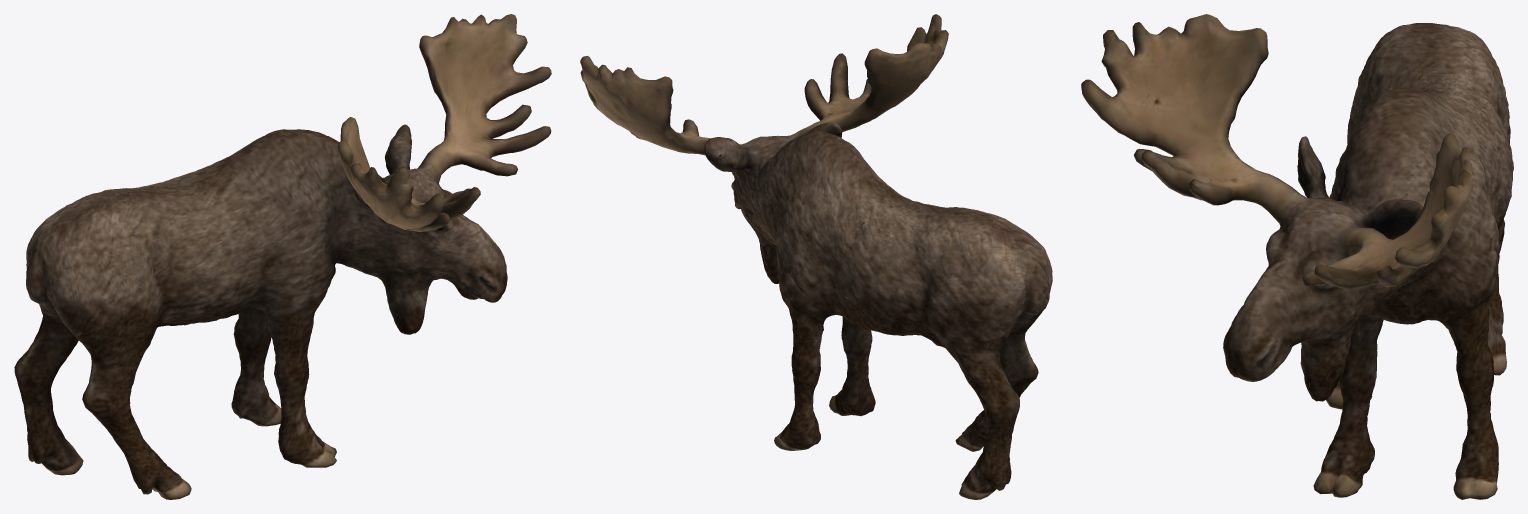
File: MZ4250 - The White Moose_alt.glb
3 views of the same model, side by side, from view 1: azimuth 30°, elevation 25°; view 2: azimuth 150°, elevation 25°; view 3: azimuth 270°, elevation 25° (orthographic). The views are drawn at different scales.
Parts seen in each view (by area): view 1: Moose.002; view 2: Moose.002; view 3: Moose.002.
Part boxes in pixels (x1=…): Moose.002: x1=14, y1=14, x2=551, y2=499; Moose.002: x1=580, y1=14, x2=1052, y2=499; Moose.002: x1=1081, y1=14, x2=1513, y2=499.
Bounding box in the file's own units: 197 × 136 × 115.
1 material, 1 textured.
